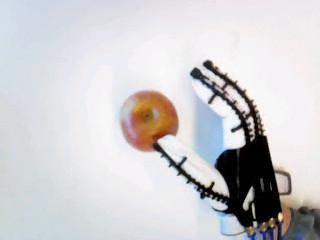apple: (118, 88, 178, 151)
hand: (157, 62, 281, 228)
